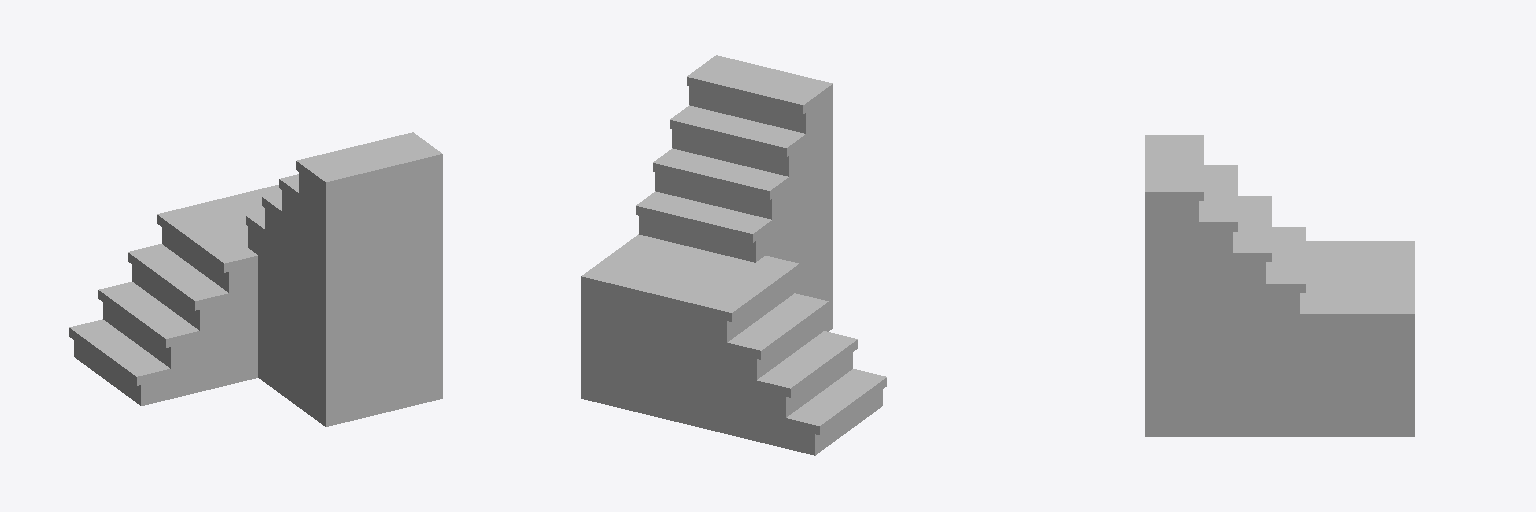
The model's file is stairs-stone-corner.obj.
3 views of the same model, side by side, from view 1: azimuth 30°, elevation 25°; view 2: azimuth 150°, elevation 25°; view 3: azimuth 270°, elevation 25° (orthographic).
Visible parts, largest first — view 1: stairs-stone-corner; view 2: stairs-stone-corner; view 3: stairs-stone-corner.
Boxes of the visible parts, x1=… form: stairs-stone-corner: x1=69, y1=132, x2=442, y2=426; stairs-stone-corner: x1=581, y1=55, x2=886, y2=455; stairs-stone-corner: x1=1145, y1=135, x2=1414, y2=436.
Bounding box in the file's own units: 1.02 × 1 × 1.